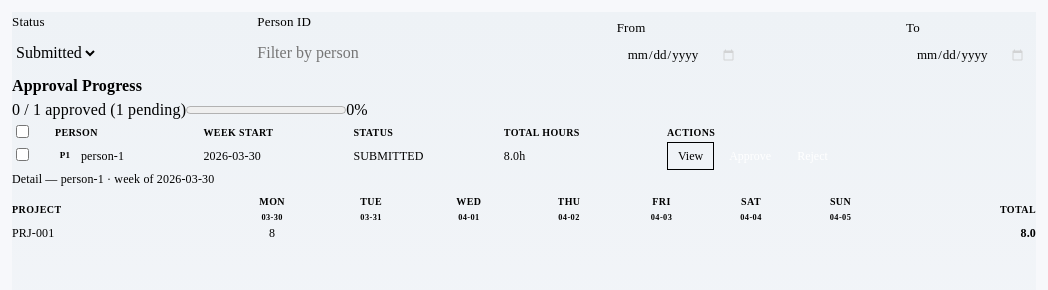
TimesheetApprovalPage › renders bulk approve button when items are selected
Click the checkbox named "Select week-1" at (22, 154), box [16,148,29,161]
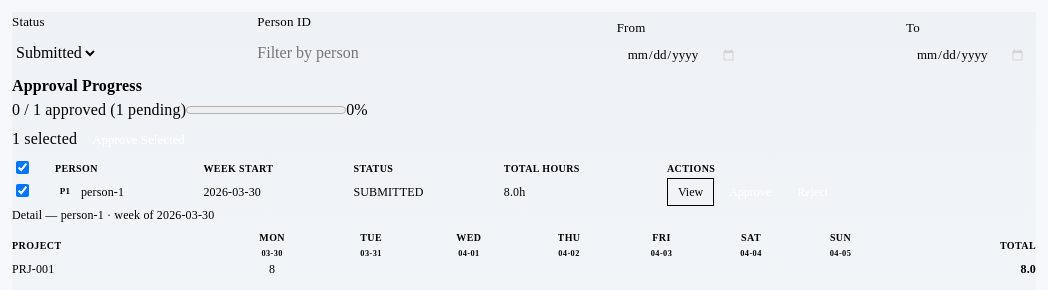
Result: the button "Approve Selected" is shown at [77,122,200,158]
